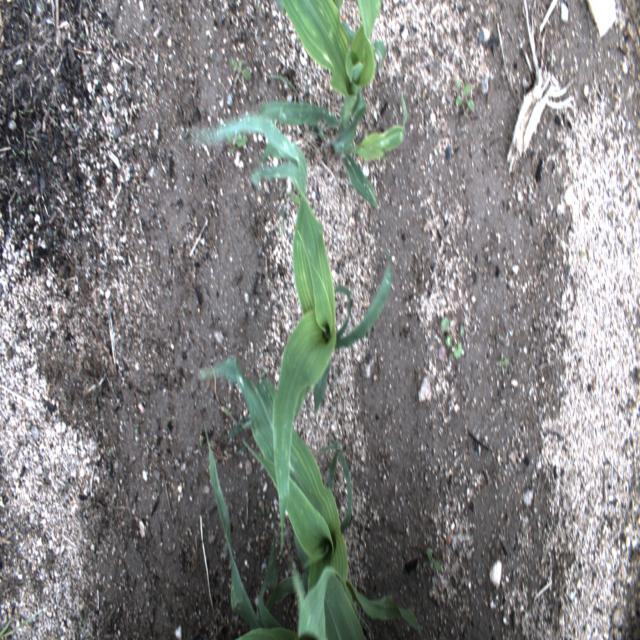crop: (193, 115, 394, 549), (197, 358, 420, 638), (255, 0, 408, 209)
weed: (0, 607, 46, 639), (439, 315, 465, 359), (223, 125, 248, 158), (455, 75, 476, 112), (228, 56, 252, 84), (289, 192, 311, 216), (426, 548, 442, 574), (498, 351, 510, 378), (256, 368, 266, 380), (133, 421, 140, 436)
